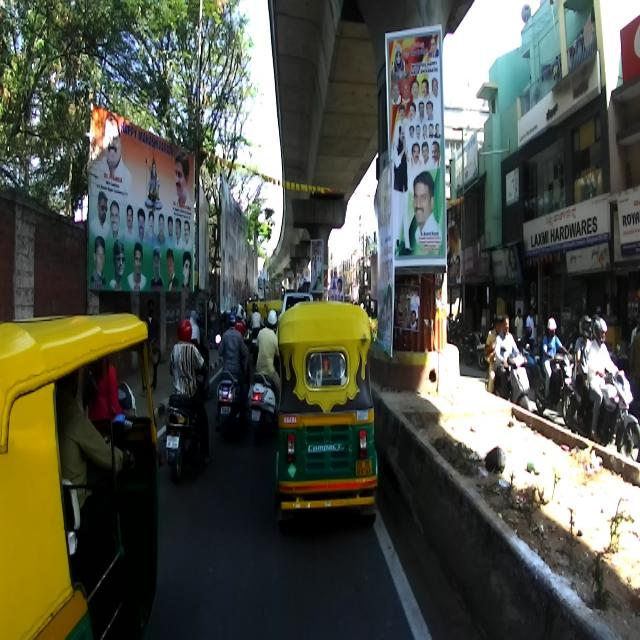autorickshaw: (0, 310, 160, 639), (273, 302, 377, 528)
motorcycle: (534, 342, 576, 428)
motorcycle_Honda: (563, 364, 639, 463)
scooter: (161, 364, 207, 484), (215, 331, 251, 441), (484, 339, 530, 414), (248, 371, 280, 441)
